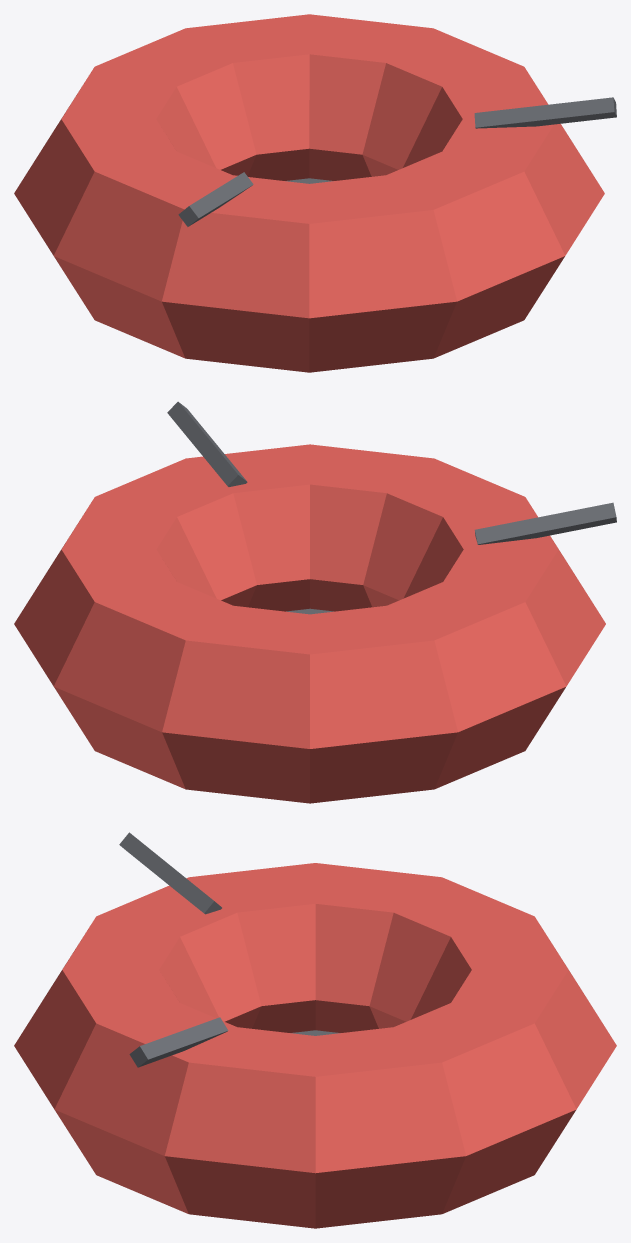
The picture shows the model from 3 angles, top to bottom: view 1: azimuth 30°, elevation 25°; view 2: azimuth 150°, elevation 25°; view 3: azimuth 270°, elevation 25°; orthographic projection. The views are drawn at different scales.
Visible parts, largest first — view 1: snow-tube; view 2: snow-tube; view 3: snow-tube.
Part boxes in pixels (x1,y1,x2,y2): snow-tube: [14, 14, 616, 372]; snow-tube: [14, 401, 616, 803]; snow-tube: [14, 832, 616, 1228].
Size of the model in its own units: 1.06 by 0.357 by 1.06.
